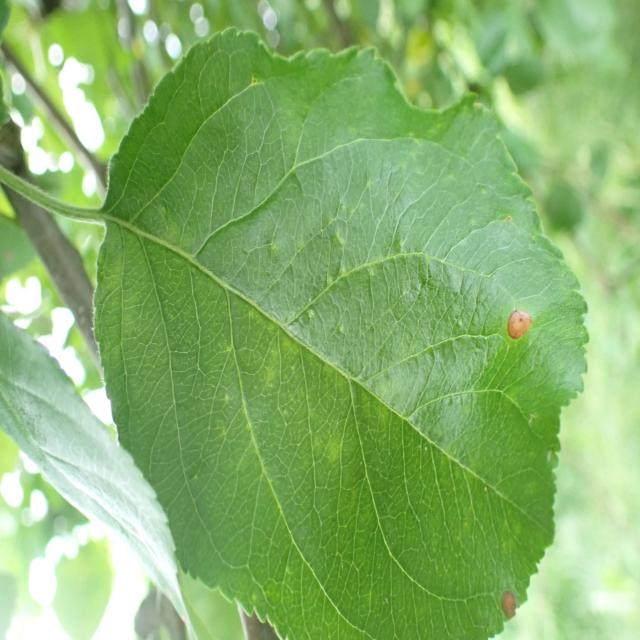Black Rot: (479, 284, 544, 363), (487, 538, 527, 640)
